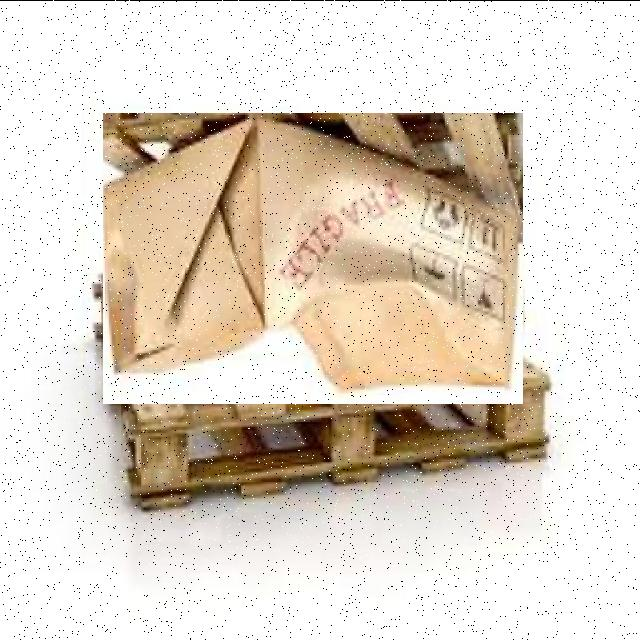defect: (103, 112, 523, 403)
